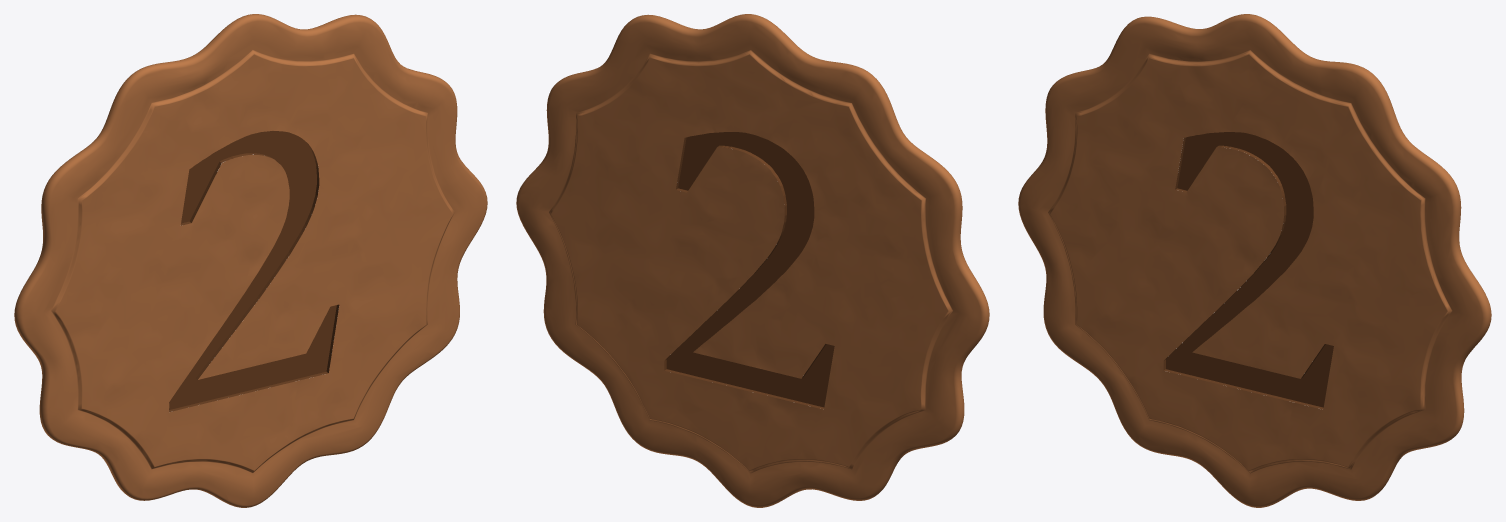
Rendered from badge-2.glb.
3 views of the same model, side by side, from view 1: azimuth 30°, elevation 25°; view 2: azimuth 150°, elevation 25°; view 3: azimuth 330°, elevation 25° (orthographic).
Visible parts, largest first — view 1: badge_body, digit_2_front; view 2: badge_body, digit_2_front; view 3: badge_body, digit_2_front.
Boxes of the visible parts, box(x1,y1,x2,y2) form: badge_body: box(14, 14, 487, 507); digit_2_front: box(169, 131, 339, 412); badge_body: box(516, 14, 989, 507); digit_2_front: box(664, 132, 834, 409); badge_body: box(1018, 14, 1491, 507); digit_2_front: box(1163, 132, 1333, 409).
Size of the model in its own units: 0.2585 by 0.2575 by 0.00991.
